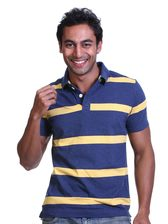clothoes: (35, 60, 147, 221)
